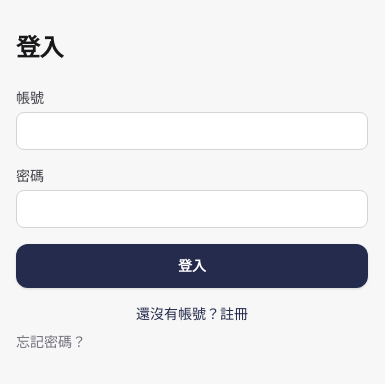
Scenario: Change 49: pages show a localised "too many attempts" message › login (zh-TW) and singular minute
The image size is (385, 384).
Type "bob" into the field labelled "帳號" at (192, 131), box [16,112,368,150]
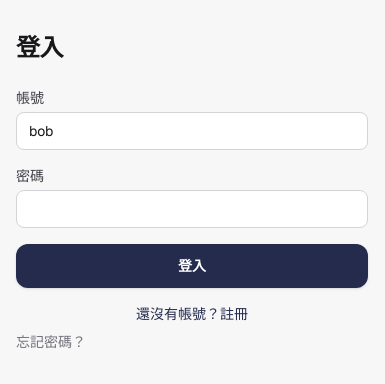
Type "whatever" into the password field labelled "密碼" at (192, 209), box [16,190,368,228]
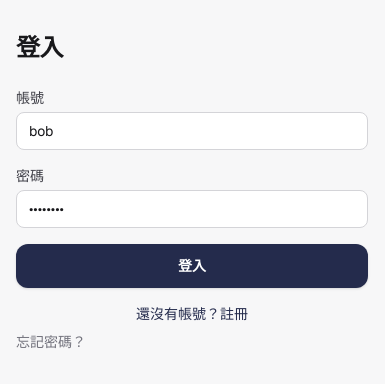
Click the button "登入" at (192, 266), box [16,244,368,288]
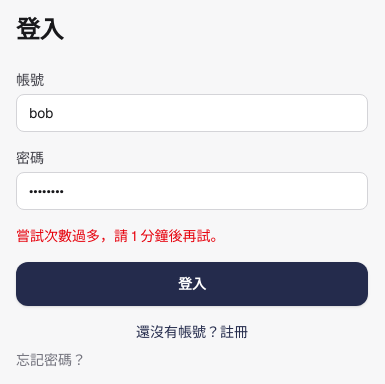
Result: the message reads "嘗試次數過多，請 1 分鐘後再試。" at [16,227,224,245]
